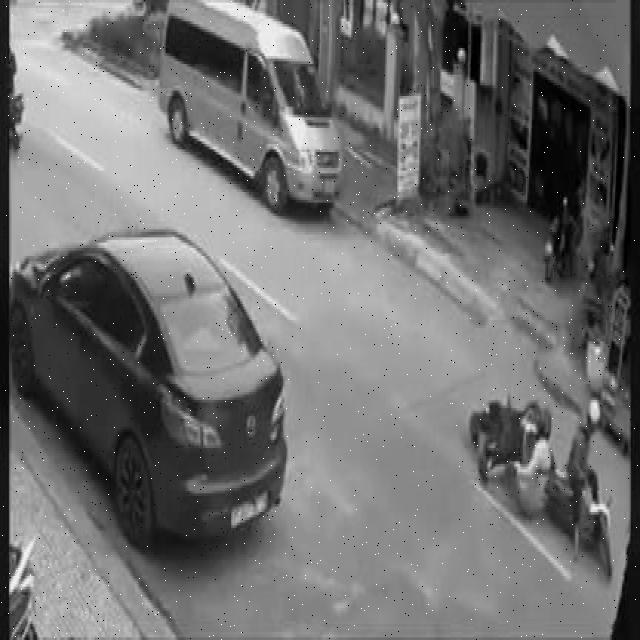accident: (466, 344, 615, 595)
